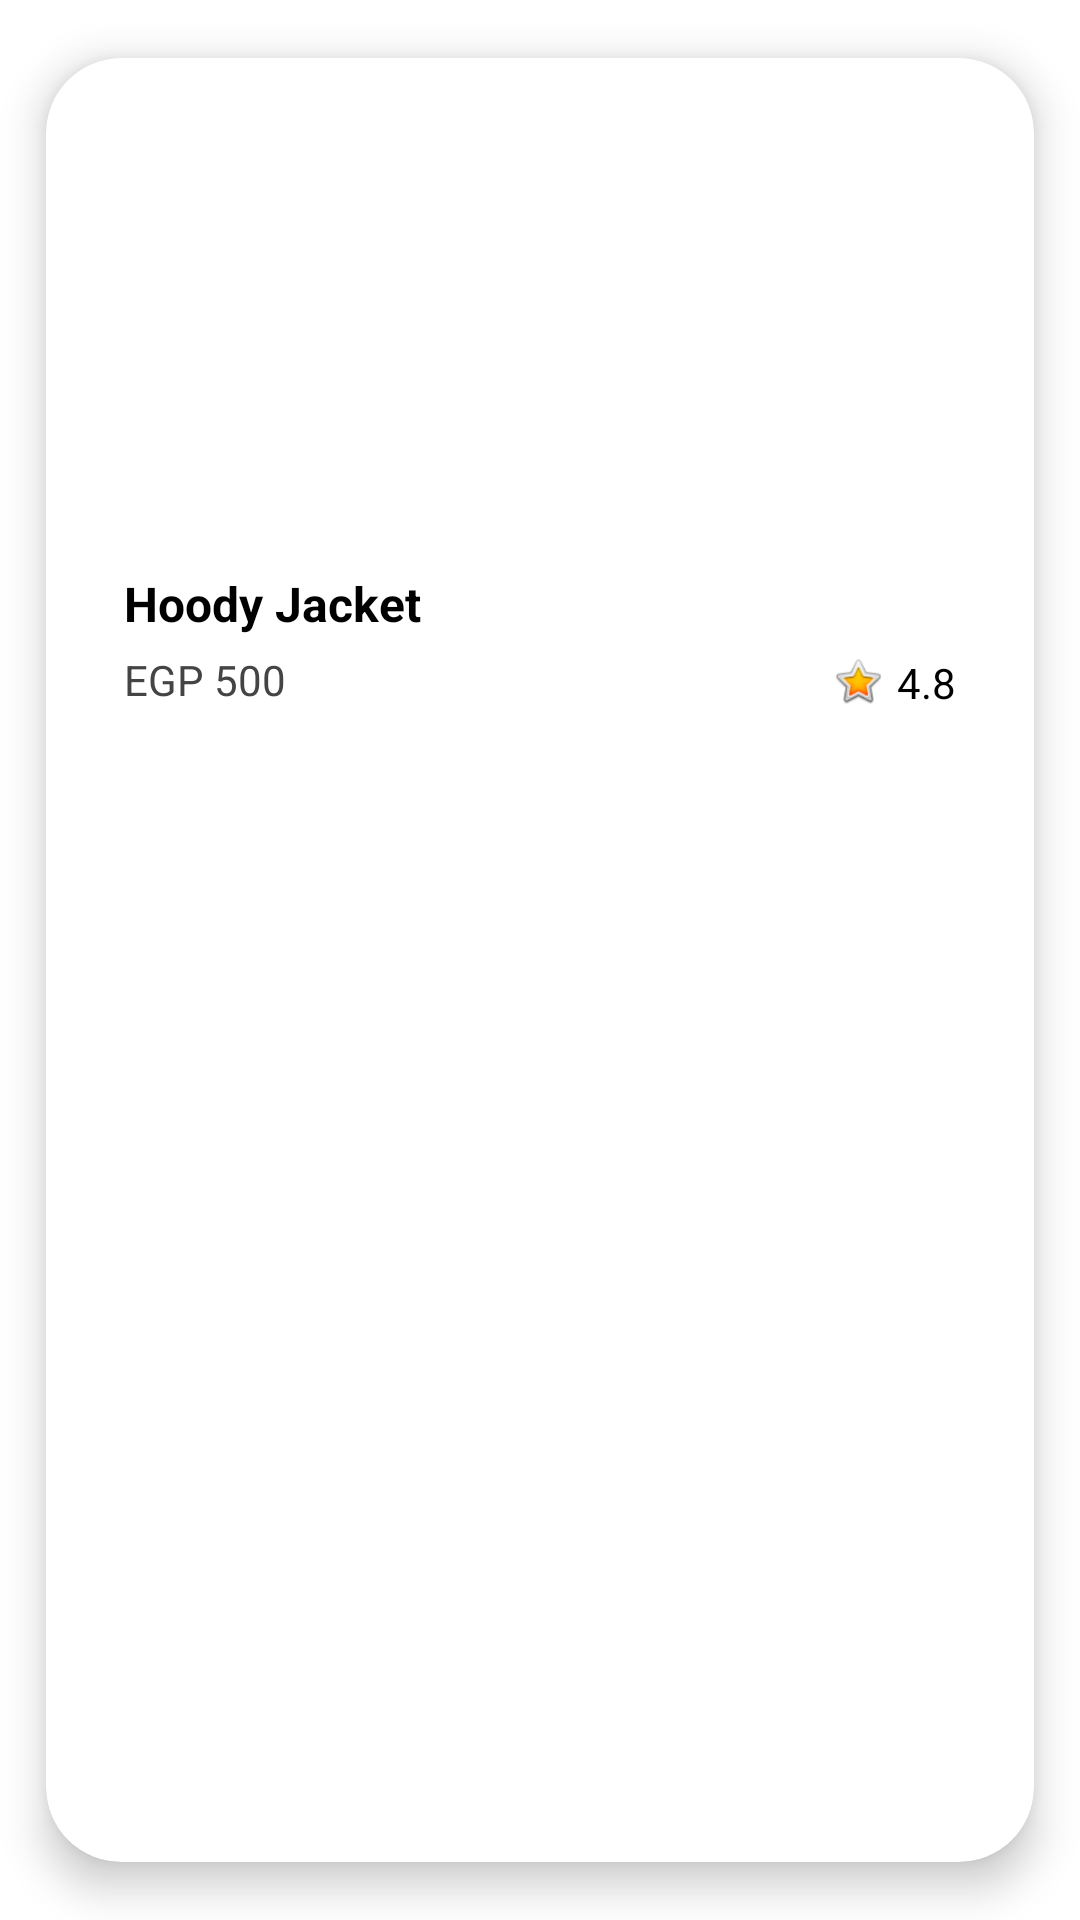

Icon bounding boxes for this 1080w x 1920h phone screenshot, format bbox=(x1, y1, x2, y2):
star on: bbox=(836, 659, 881, 703)
